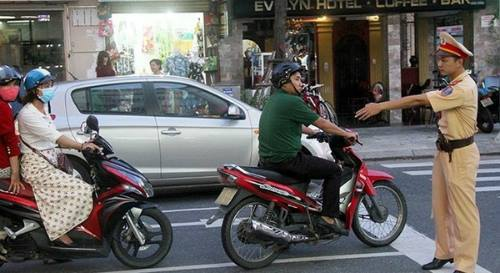police: (373, 33, 493, 273)
